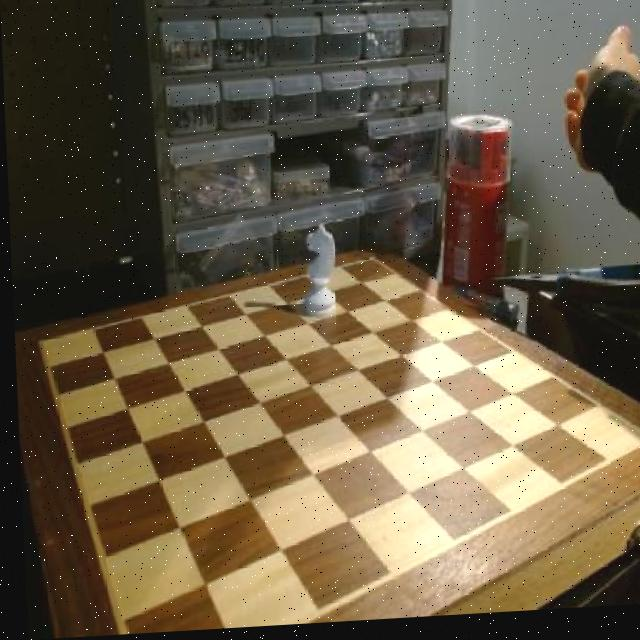white-king: (290, 225, 340, 328)
